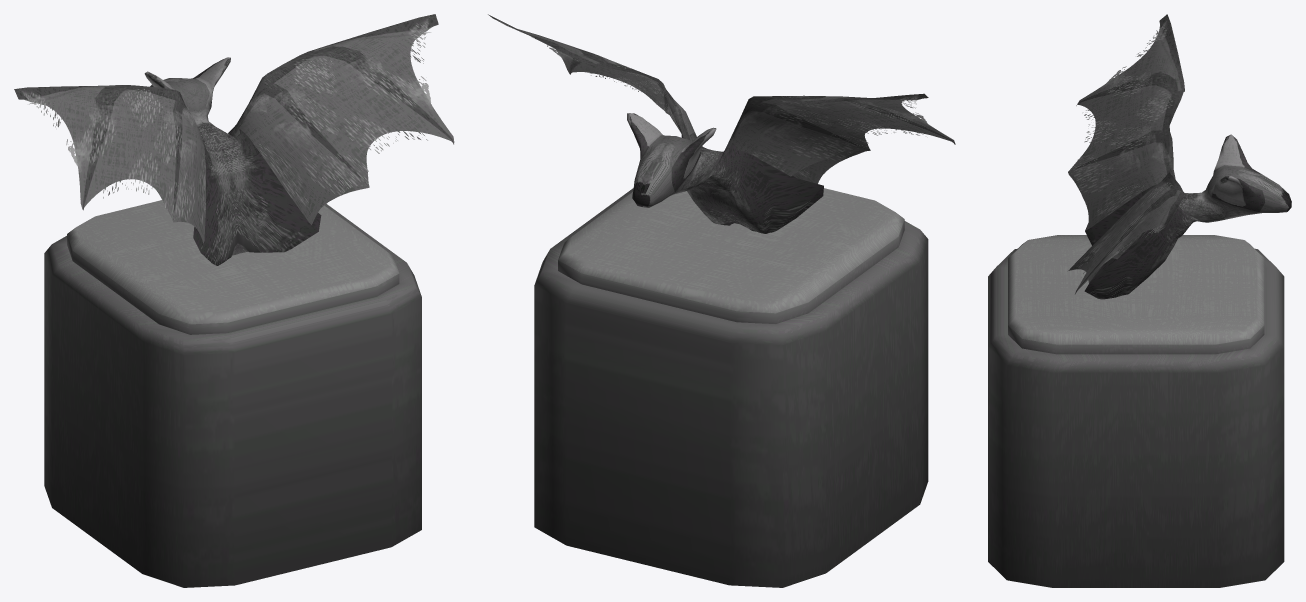
The model's file is FurnaceAnimation.fbx.
3 views of the same model, side by side, from view 1: azimuth 30°, elevation 25°; view 2: azimuth 150°, elevation 25°; view 3: azimuth 270°, elevation 25° (orthographic). The views are drawn at different scales.
Visible parts, largest first — view 1: Furnace, BunyipStatue (2); view 2: Furnace, BunyipStatue (2); view 3: Furnace, BunyipStatue (2).
Boxes of the visible parts, bbox=[...] form: Furnace: bbox=[44, 200, 421, 587]; BunyipStatue (2): bbox=[14, 14, 454, 265]; Furnace: bbox=[534, 188, 928, 587]; BunyipStatue (2): bbox=[488, 14, 955, 233]; Furnace: bbox=[988, 235, 1284, 587]; BunyipStatue (2): bbox=[1068, 14, 1291, 299].
Size of the model in its own units: 2.5 by 2.59 by 1.69.
